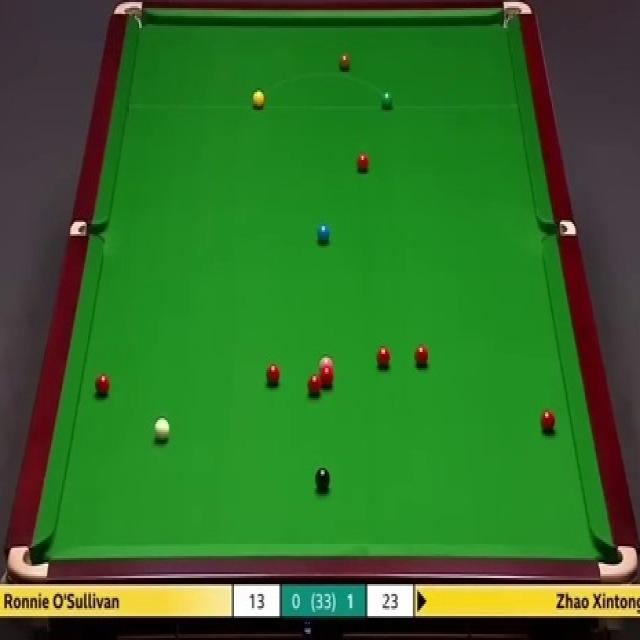pocket: (595, 542, 638, 580), (10, 545, 48, 583), (503, 0, 531, 29), (71, 217, 104, 240), (111, 2, 142, 26), (540, 218, 576, 237)
